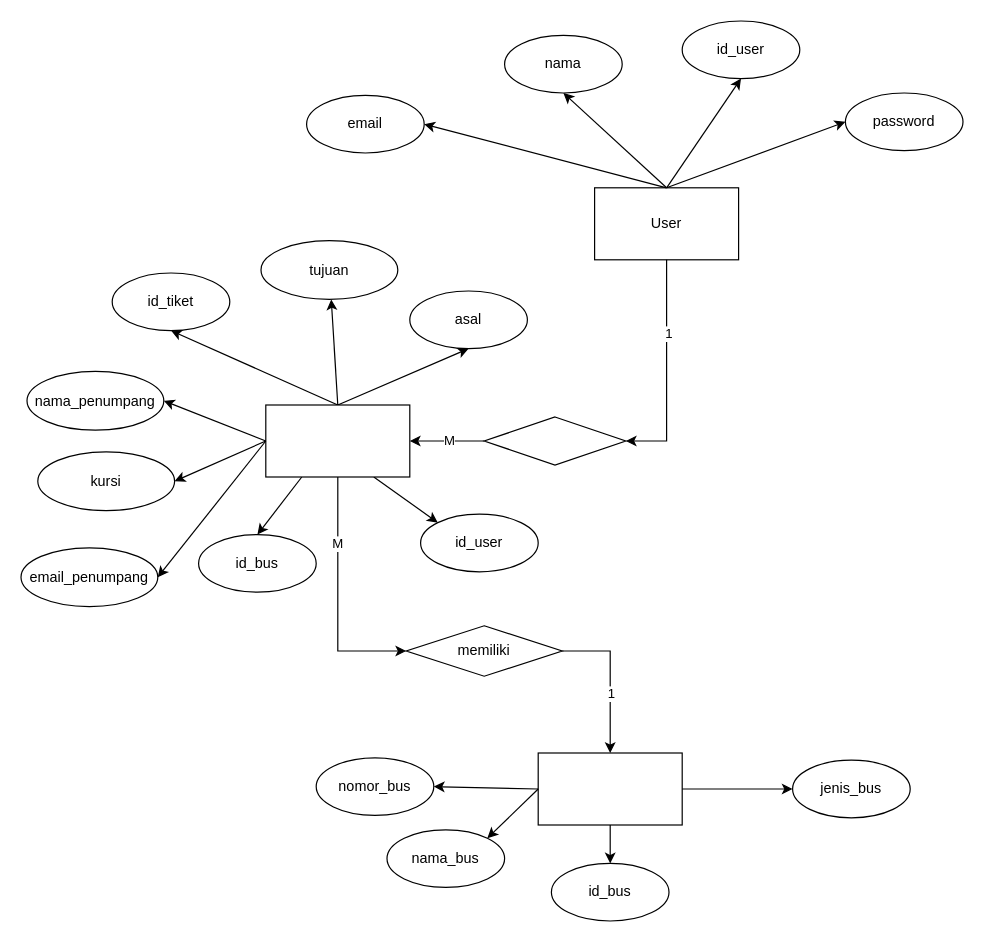
This 984x942 diagram has some shape labels left out. Here are the shapes that lost their labels. From the top down, the centre of each, then its label:
At (337,440): "Tiket".
At (554,440): "memesan".
At (609,788): "Bus".
